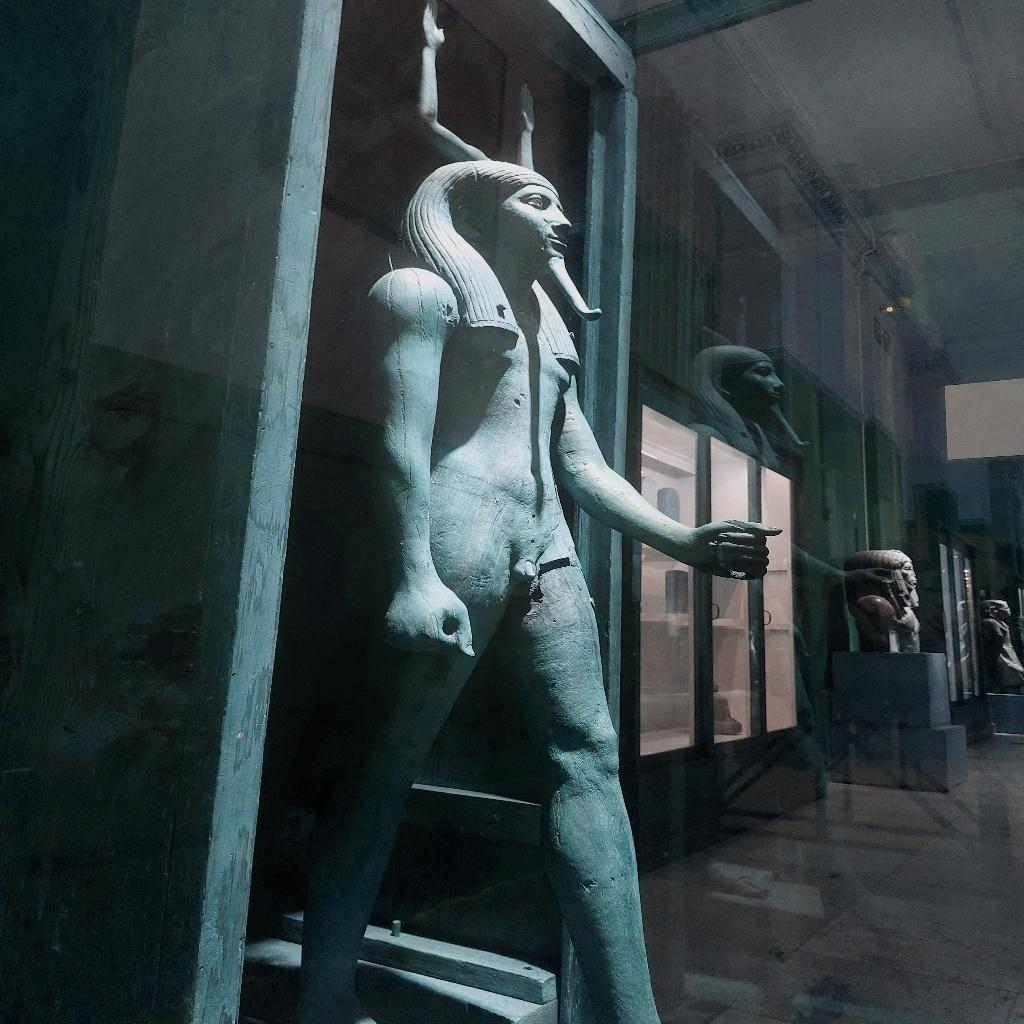Hor I: (284, 156, 784, 1020)
